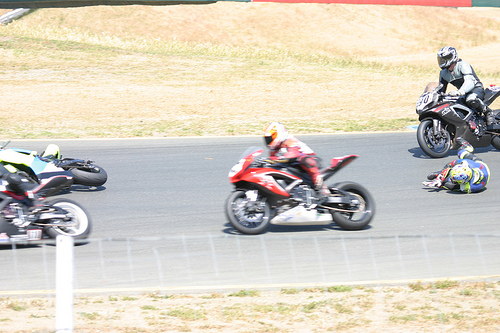helmet: (266, 122, 294, 147), (435, 47, 456, 66), (451, 162, 470, 183)
